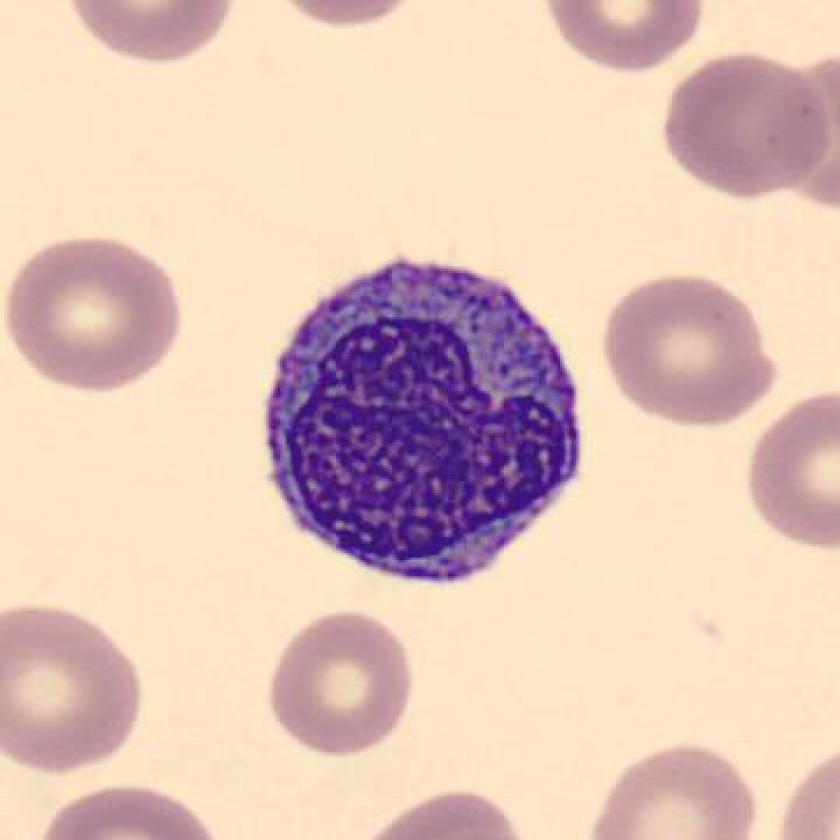monocyte: (248, 235, 608, 605)
